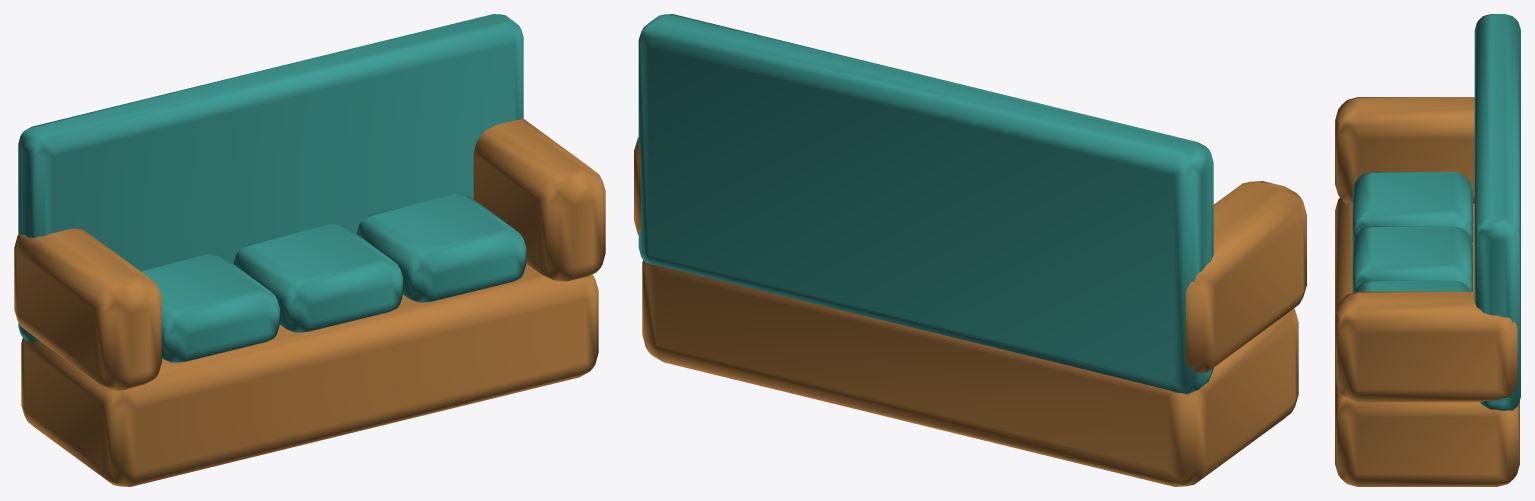
Rendered from shelter-waiting-bench.glb.
3 views of the same model, side by side, from view 1: azimuth 30°, elevation 25°; view 2: azimuth 150°, elevation 25°; view 3: azimuth 270°, elevation 25° (orthographic). The views are drawn at different scales.
Parts seen in each view (by area): view 1: interior_1_cloth.001, interior_1_wood.002; view 2: interior_1_cloth.001, interior_1_wood.002; view 3: interior_1_wood.002, interior_1_cloth.001.
Part boxes in pixels (bbox=[...]): interior_1_cloth.001: bbox=[18, 14, 526, 362]; interior_1_wood.002: bbox=[14, 118, 605, 486]; interior_1_cloth.001: bbox=[638, 14, 1213, 394]; interior_1_wood.002: bbox=[634, 137, 1306, 486]; interior_1_wood.002: bbox=[1335, 97, 1519, 486]; interior_1_cloth.001: bbox=[1352, 14, 1520, 410].
Bounding box in the file's own units: 1.85 × 1.04 × 0.6532.
